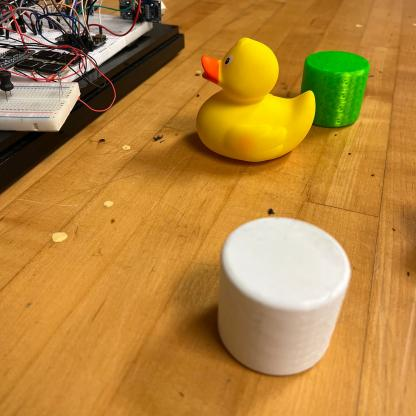duck: (194, 36, 318, 164)
green cylinder: (300, 48, 371, 130)
white cylinder: (216, 214, 354, 380)
